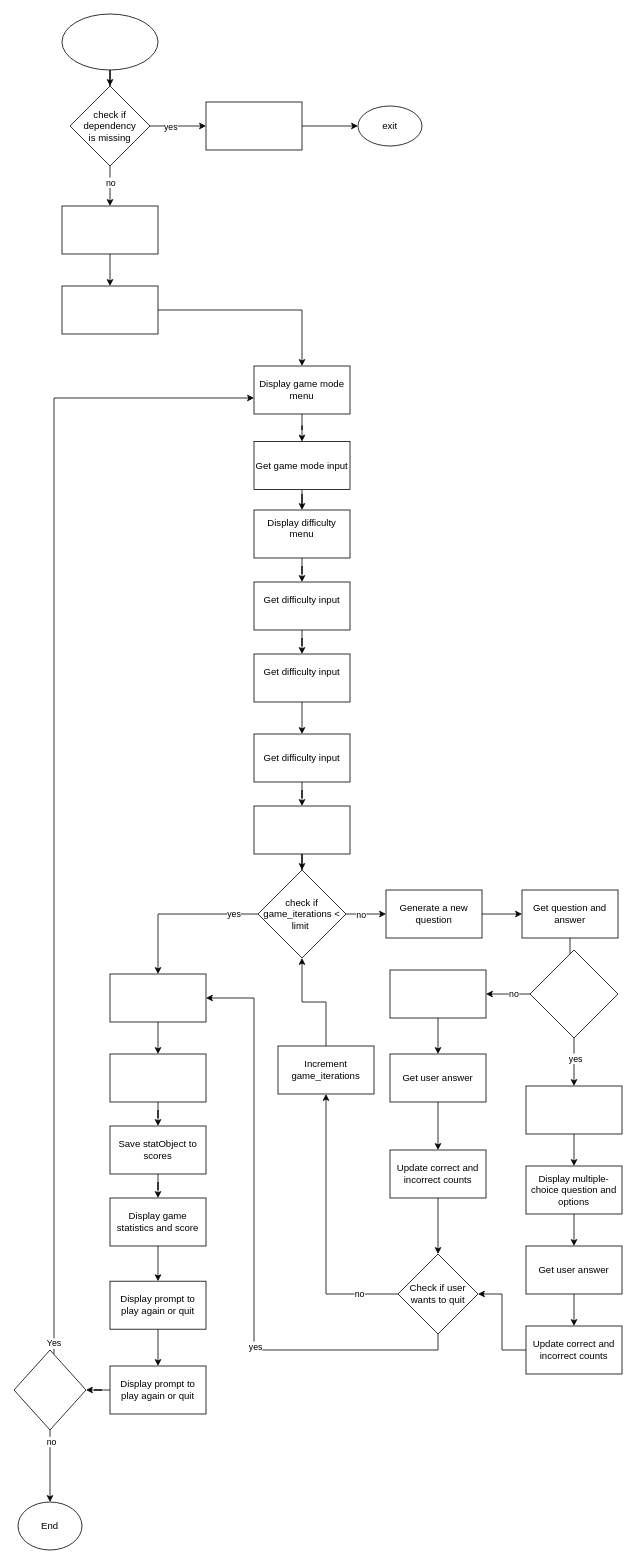
Image size: 636x1564. Some labels were removed from this diagram. The shapes that lost their labels are listed below. From the top down, each one's box as (x1, y1, x2, y2) in pixels, then its label:
(61, 13, 158, 70): Start
(205, 101, 302, 150): print error message
(61, 205, 158, 254): Print instructions for the game
(61, 285, 158, 334): Get user name input
(253, 805, 350, 854): Configure game based on difficulty and game mode
(109, 973, 206, 1022): Calculate max_score and score based on game results
(389, 969, 486, 1018): Display true/false question
(529, 949, 618, 1038): Check if game mode is multiple choice
(109, 1053, 206, 1102): Create statObject with user's data
(525, 1085, 622, 1134): Shuffle possible answers
(13, 1349, 86, 1430): Check if play_again is true
